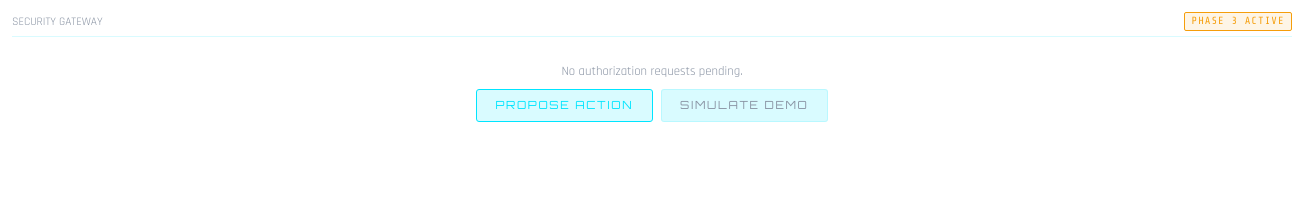
Test: ApprovalPreviewPanel Component › approves a request and triggers state cleanup callback
This screenshot has width=1292, height=202.
Note: Trigger demo
Step 1. Click the button "Simulate Demo" → click(744, 105), box left=661, top=89, right=828, bottom=122
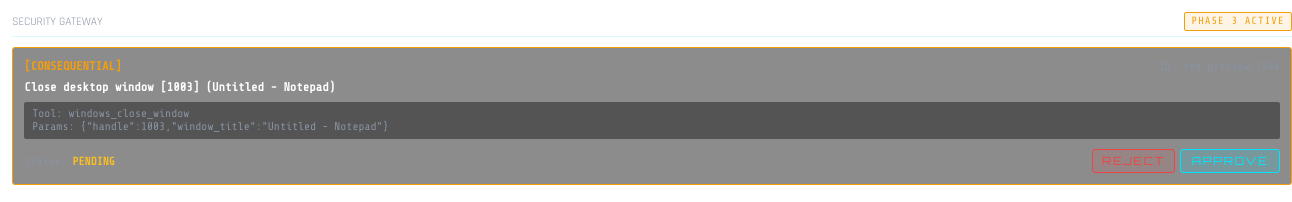
Step 2. Click the button "APPROVE" → click(1230, 161), box left=1180, top=149, right=1280, bottom=173
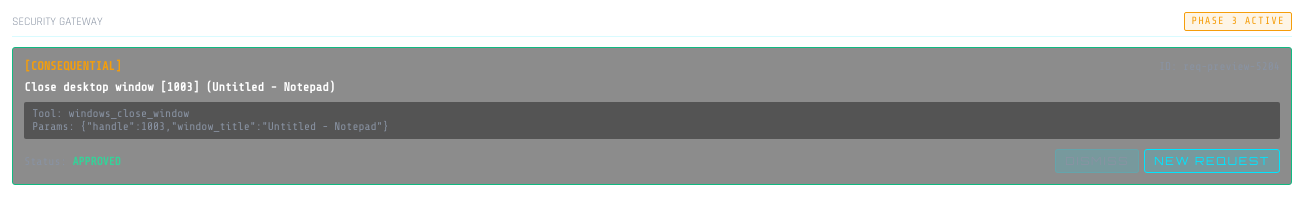
Expected: the text "approved" is shown, left=72, top=155, right=121, bottom=168
